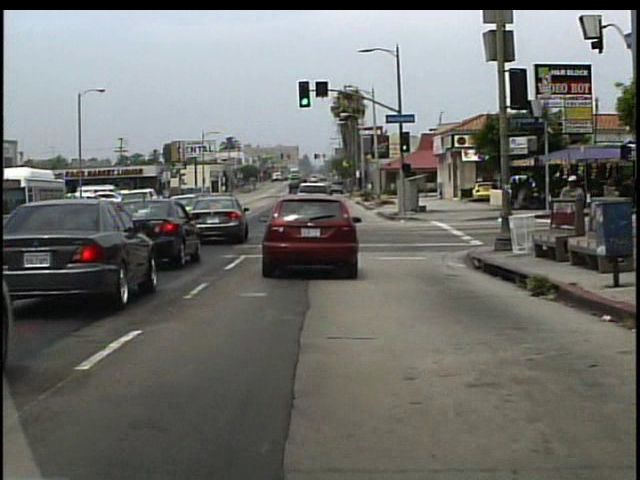person: (556, 171, 589, 253), (488, 177, 501, 207)
